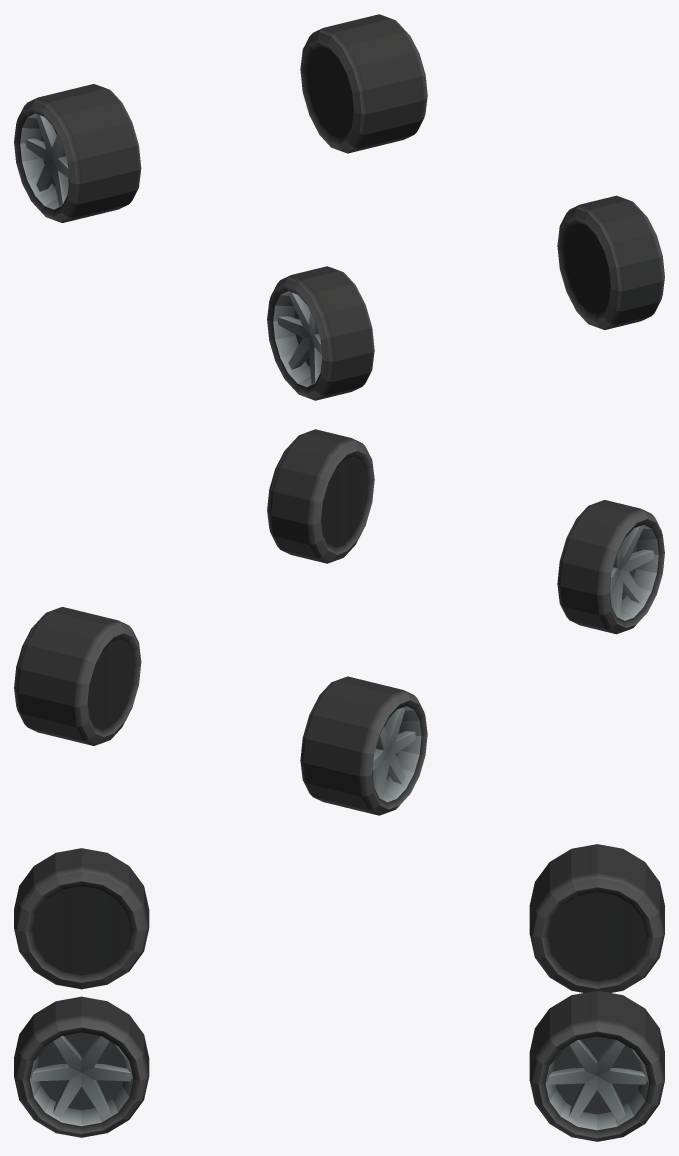
The model's file is Tire_Sports_01_Basic.fbx.
The picture shows the model from 3 angles, top to bottom: view 1: azimuth 30°, elevation 25°; view 2: azimuth 150°, elevation 25°; view 3: azimuth 270°, elevation 25°; orthographic projection. The views are drawn at different scales.
Visible parts, largest first — view 1: BackLeft, BackRight, FrontLeft, FrontRight; view 2: BackLeft, BackRight, FrontRight, FrontLeft; view 3: BackLeft, BackRight, FrontLeft, FrontRight.
Boxes of the visible parts, bbox=[...] form: BackLeft: bbox=[300, 14, 427, 153]; BackRight: bbox=[14, 84, 141, 222]; FrontLeft: bbox=[557, 195, 664, 329]; FrontRight: bbox=[267, 266, 374, 400]; BackLeft: bbox=[14, 607, 141, 745]; BackRight: bbox=[300, 676, 427, 815]; FrontRight: bbox=[557, 500, 664, 634]; FrontLeft: bbox=[267, 429, 374, 563]; BackLeft: bbox=[529, 990, 664, 1141]; BackRight: bbox=[529, 844, 664, 992]; FrontLeft: bbox=[14, 996, 149, 1137]; FrontRight: bbox=[14, 848, 149, 989].
Size of the model in its own units: 87.69 by 27.29 by 131.
